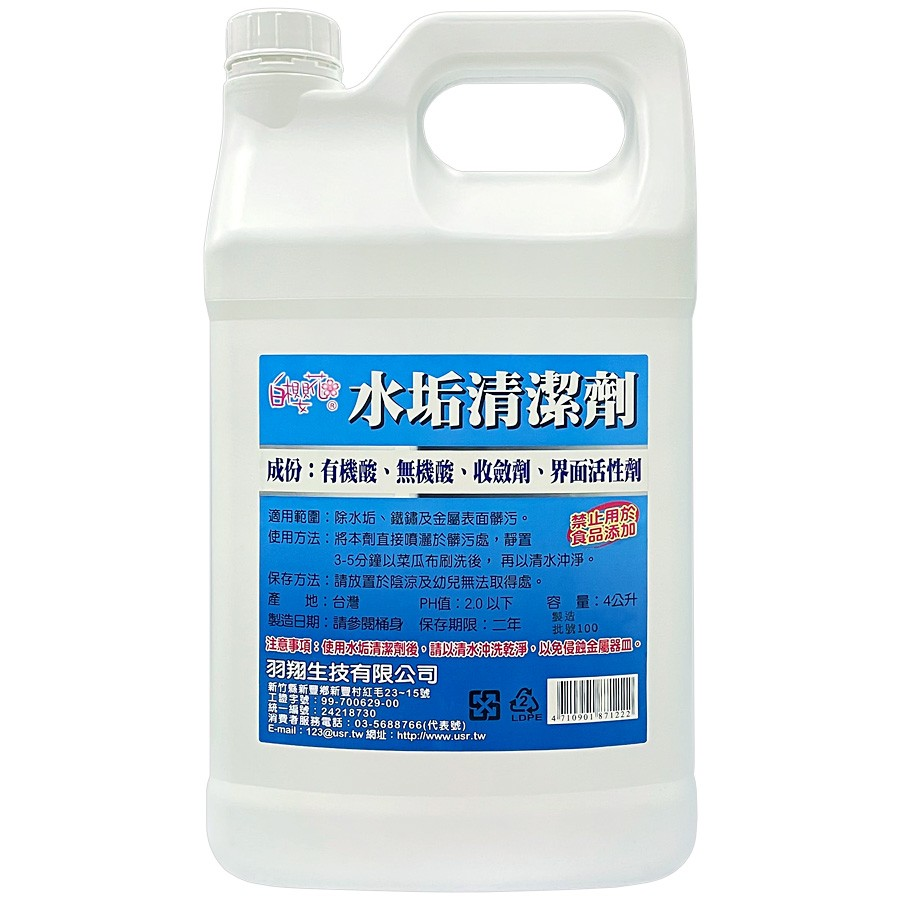cleaner: (194, 4, 717, 885)
